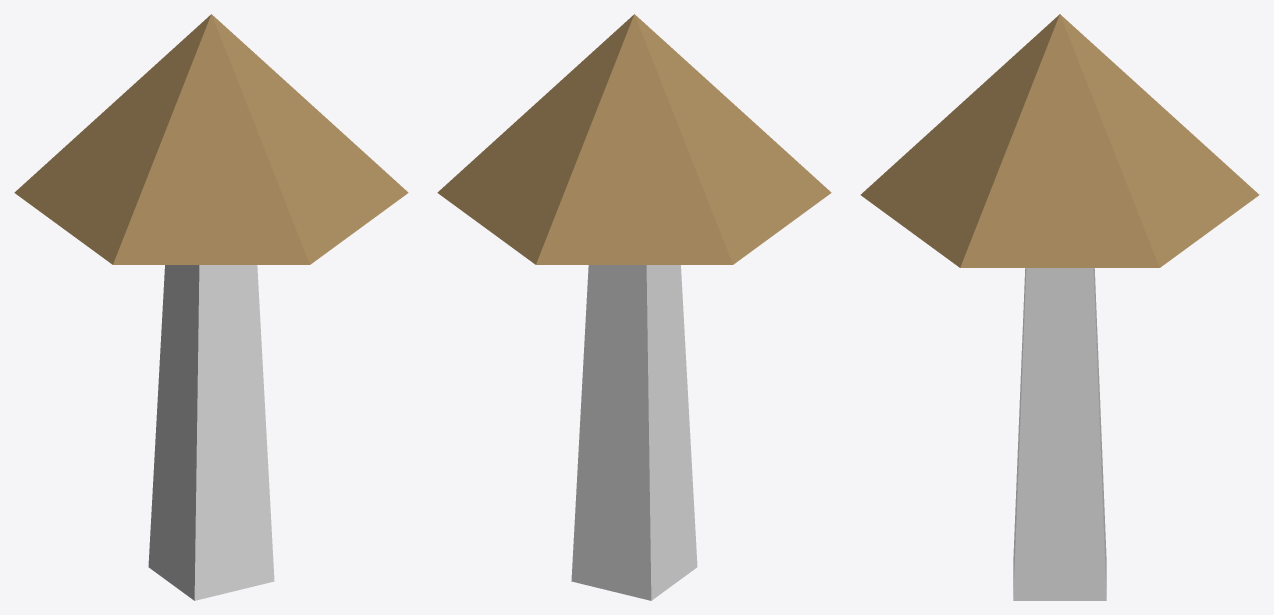
Rendered from Mushroom_Tall_01.fbx.
3 views of the same model, side by side, from view 1: azimuth 30°, elevation 25°; view 2: azimuth 150°, elevation 25°; view 3: azimuth 270°, elevation 25° (orthographic).
Parts seen in each view (by area): view 1: Mesh1_Mushroom_Tall Model; view 2: Mesh1_Mushroom_Tall Model; view 3: Mesh1_Mushroom_Tall Model.
Part boxes in pixels (x1,y1,x2,y2): Mesh1_Mushroom_Tall Model: (14,14,408,600); Mesh1_Mushroom_Tall Model: (437,14,831,600); Mesh1_Mushroom_Tall Model: (860,14,1259,600).
Bounding box in the file's own units: 0.4349 × 0.787 × 0.5022.
